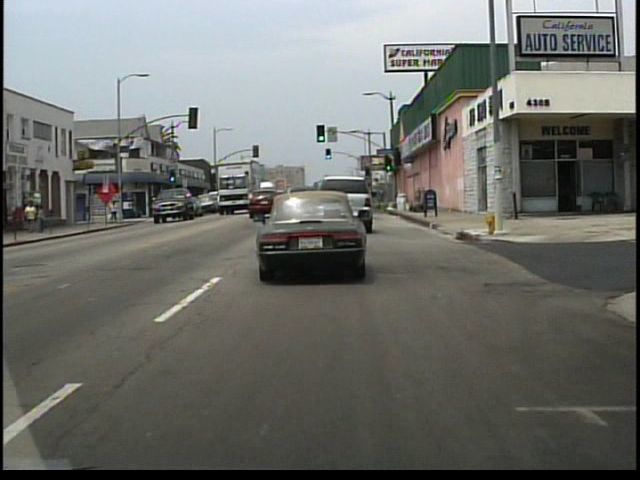person: (28, 199, 39, 231), (38, 204, 49, 233), (108, 199, 119, 223)
